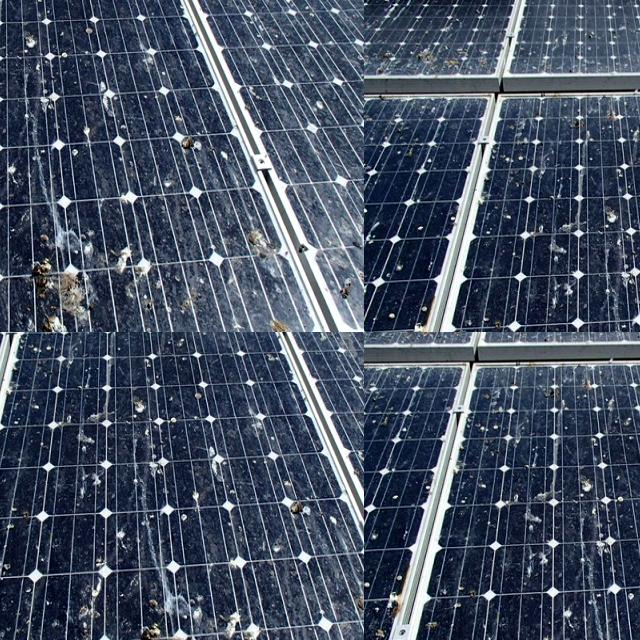bird: (518, 466, 548, 532), (364, 534, 378, 595)
dust: (218, 18, 364, 332), (465, 201, 608, 279), (480, 90, 586, 156), (370, 157, 534, 197), (612, 223, 640, 332), (364, 75, 405, 144), (550, 162, 640, 191), (364, 269, 404, 332), (418, 40, 471, 86), (406, 108, 450, 162)
shadow: (0, 332, 51, 409), (0, 332, 55, 375)
